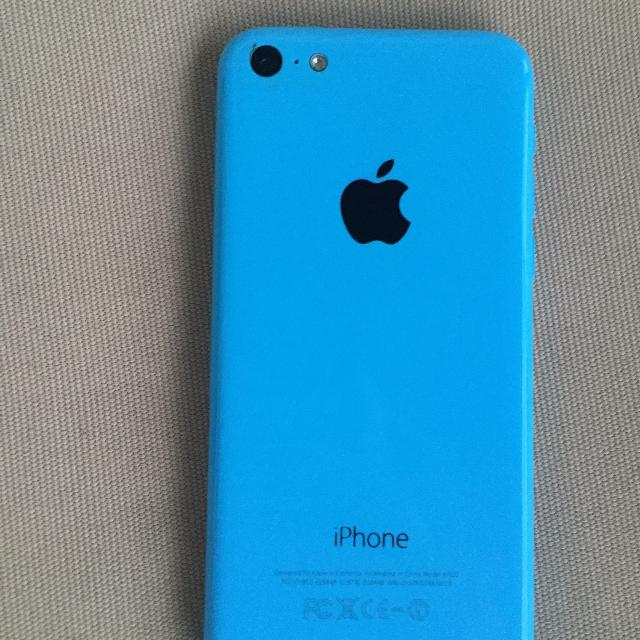apple: (320, 137, 474, 288)
